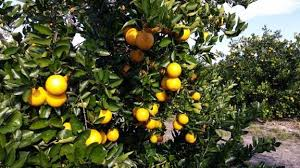orange: (45, 74, 68, 95), (82, 128, 102, 147), (136, 33, 156, 50), (167, 63, 182, 77), (166, 79, 182, 91), (136, 109, 150, 121)
